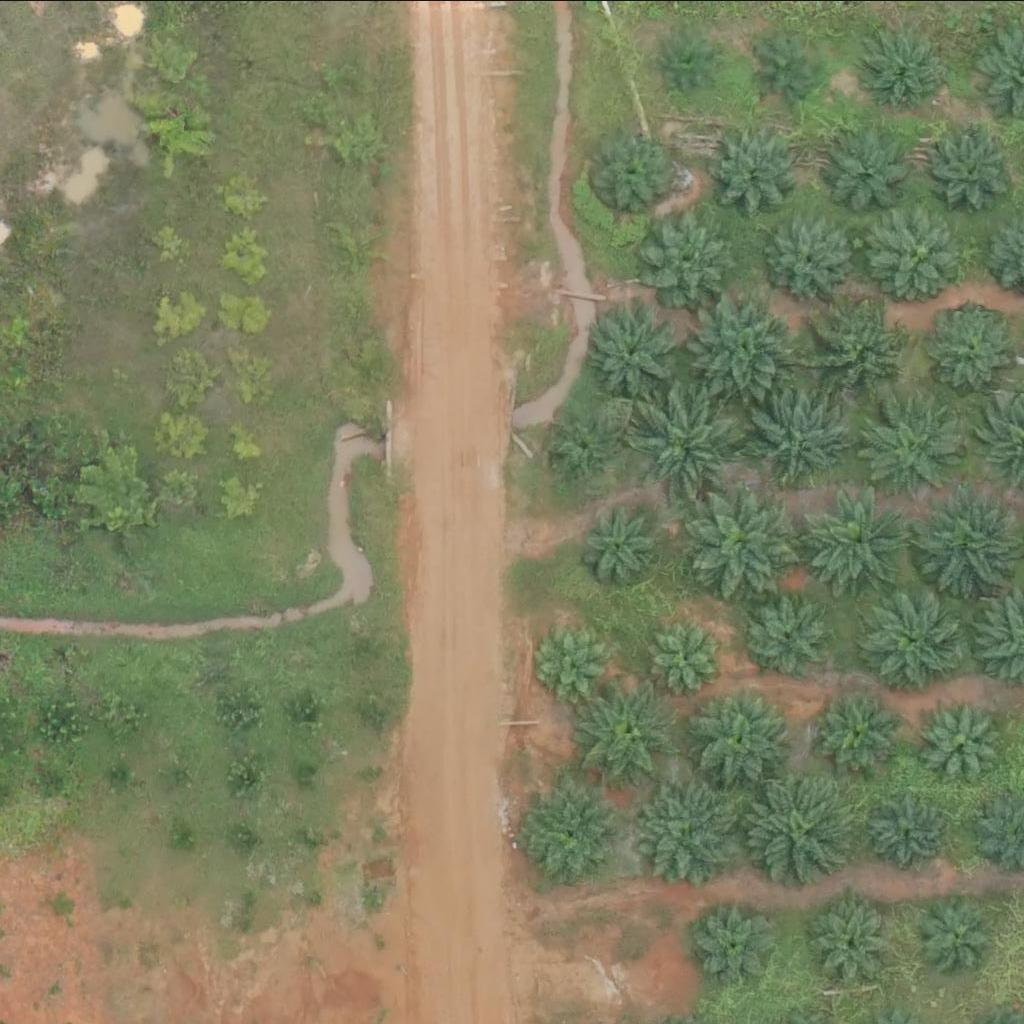Kelapa_Sawit: (618, 372, 743, 497), (635, 769, 749, 882), (742, 763, 856, 876), (682, 482, 795, 595), (801, 477, 914, 590), (910, 483, 1023, 596), (522, 781, 623, 881), (573, 683, 674, 783), (748, 382, 849, 482), (863, 392, 964, 492), (694, 294, 795, 394), (810, 302, 911, 402), (693, 683, 793, 783), (860, 586, 960, 686), (872, 208, 961, 296), (592, 305, 680, 393), (927, 304, 1015, 392), (859, 25, 947, 113), (578, 499, 667, 586), (531, 611, 619, 698), (646, 215, 734, 302), (771, 213, 859, 300), (713, 125, 801, 212), (826, 127, 914, 214), (928, 127, 1016, 214), (816, 902, 892, 977), (592, 132, 668, 207), (696, 907, 772, 982), (869, 787, 945, 862), (822, 695, 898, 770), (926, 700, 1002, 775), (755, 593, 831, 668), (648, 618, 723, 693), (916, 894, 991, 969), (758, 34, 821, 96), (555, 411, 618, 473), (668, 36, 718, 86)
